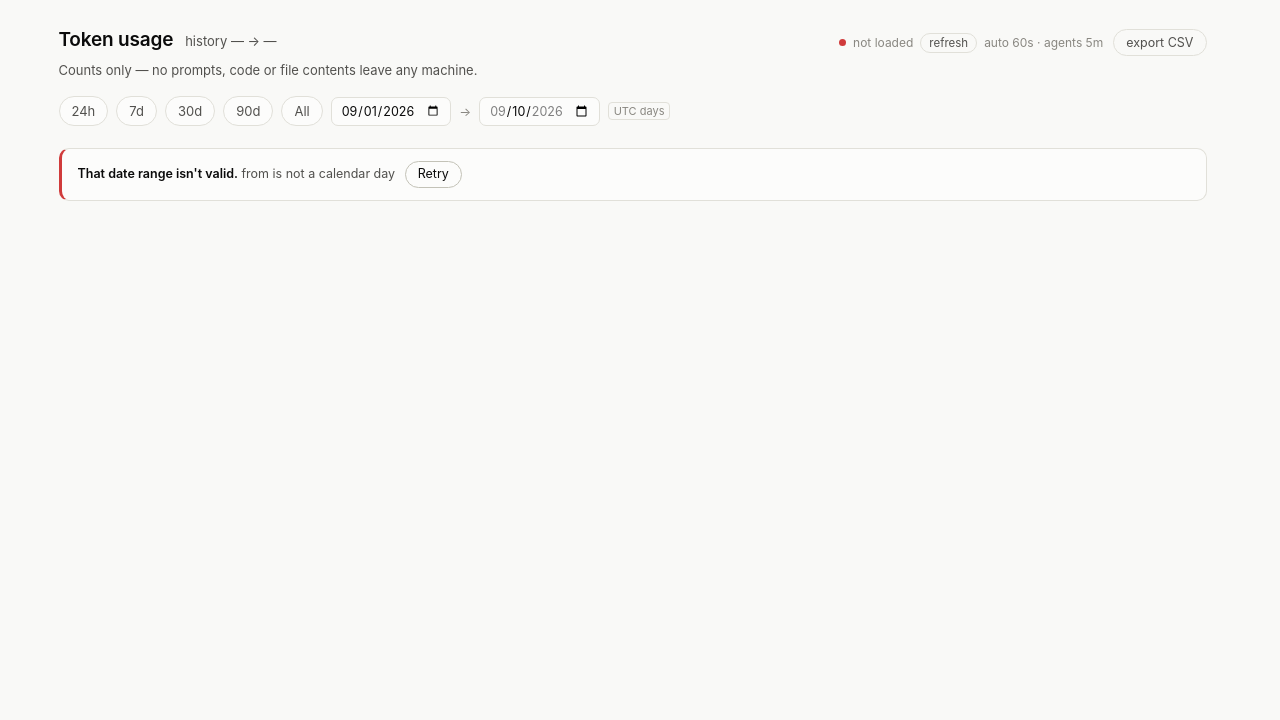
a load that fails keeps the way back › reports a rejected range as invalid, not as an outage, and lets another be chosen
Check: the text "That date range isn't valid." is shown, box [78,166,238,181]
Check: the text "That date range isn't valid. from is not a calendar day Retry" is shown, box [58,148,1206,201]
Click the button "7d" at (137, 111), box [116,96,157,126]
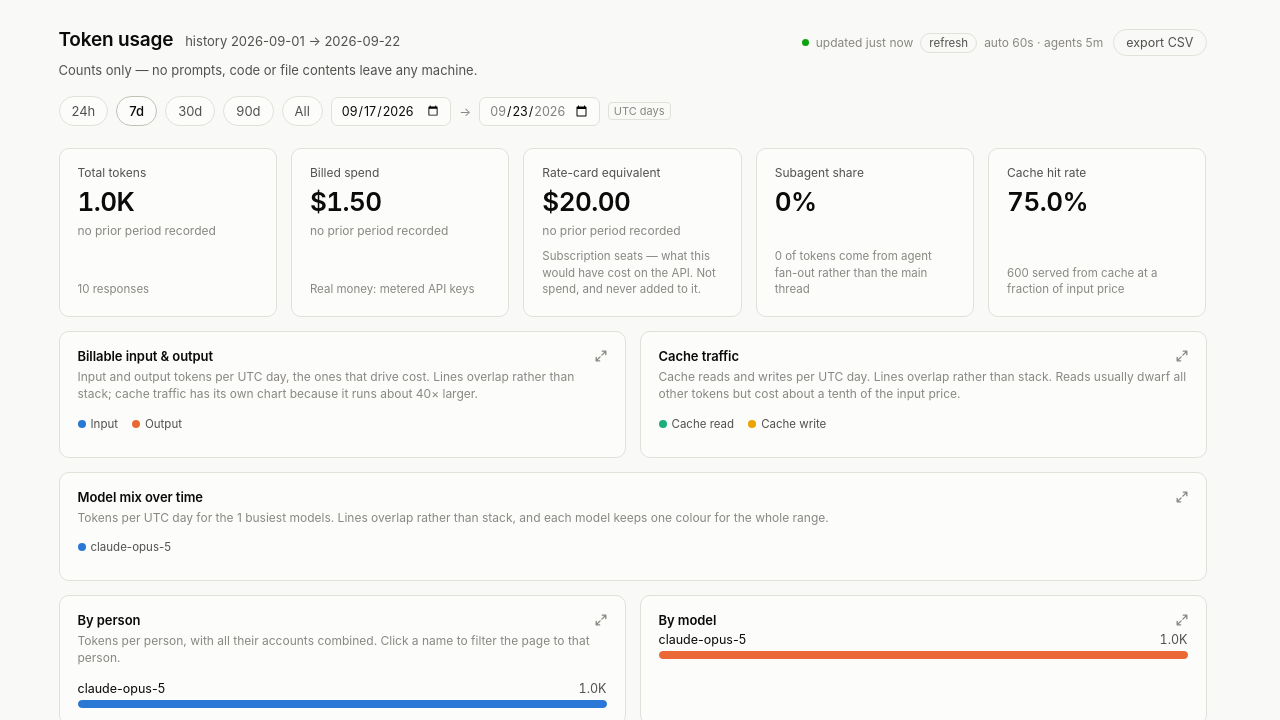
Check: the text "Total tokens" is shown, box [78,165,146,180]
